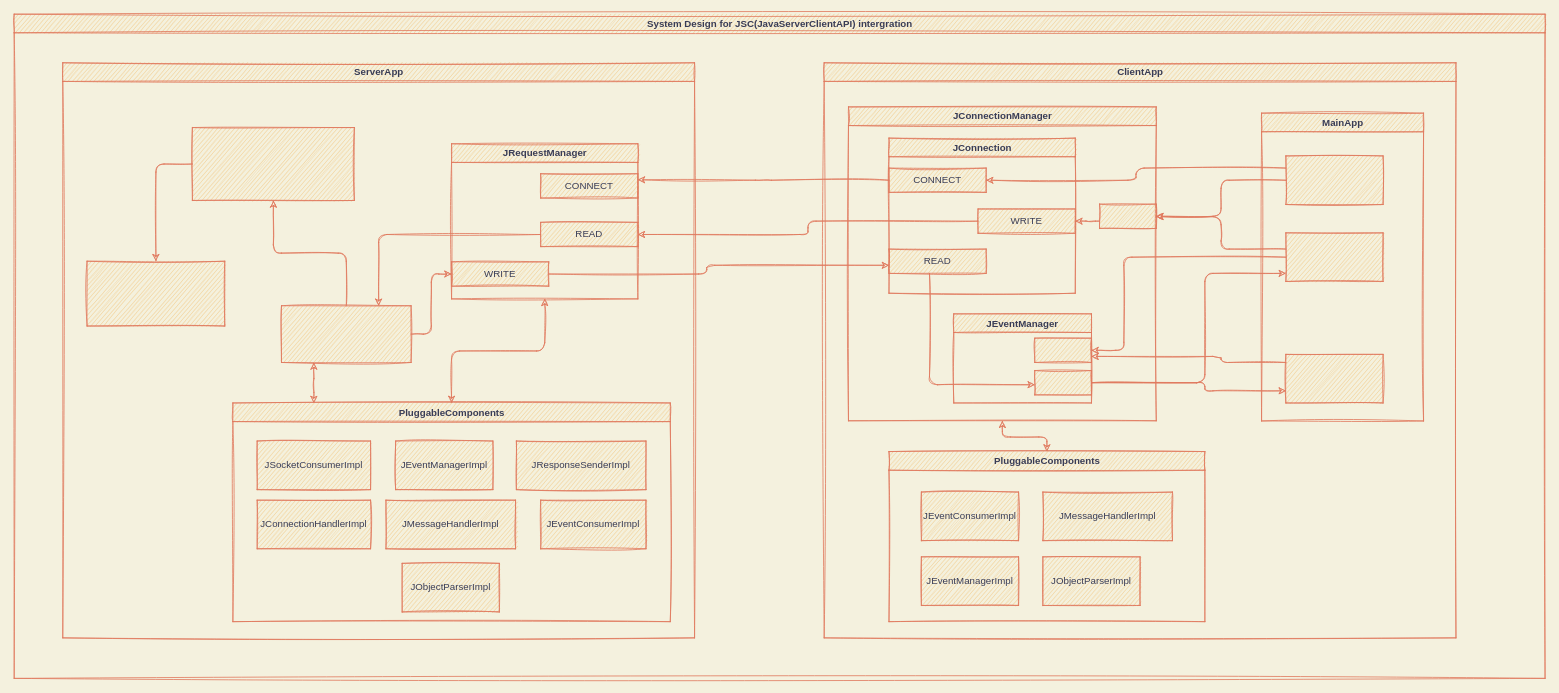
Image size: 1559x693. Some labels were removed from this diagram. The shapes that lost their labels are listed below. From the top down, each one's centre as x and y in pixels, then its label:
At (x=273, y=163): "RunServer".
At (x=1334, y=180): "AppComponent1".
At (x=1127, y=215): "SEND".
At (x=1334, y=256): "AppComponent2".
At (x=155, y=293): "JServer".
At (x=346, y=333): "RequestManagerImpl".
At (x=1062, y=349): "BIND".
At (x=1062, y=382): "NOTIFY".
At (x=1334, y=378): "AppComponentN".
